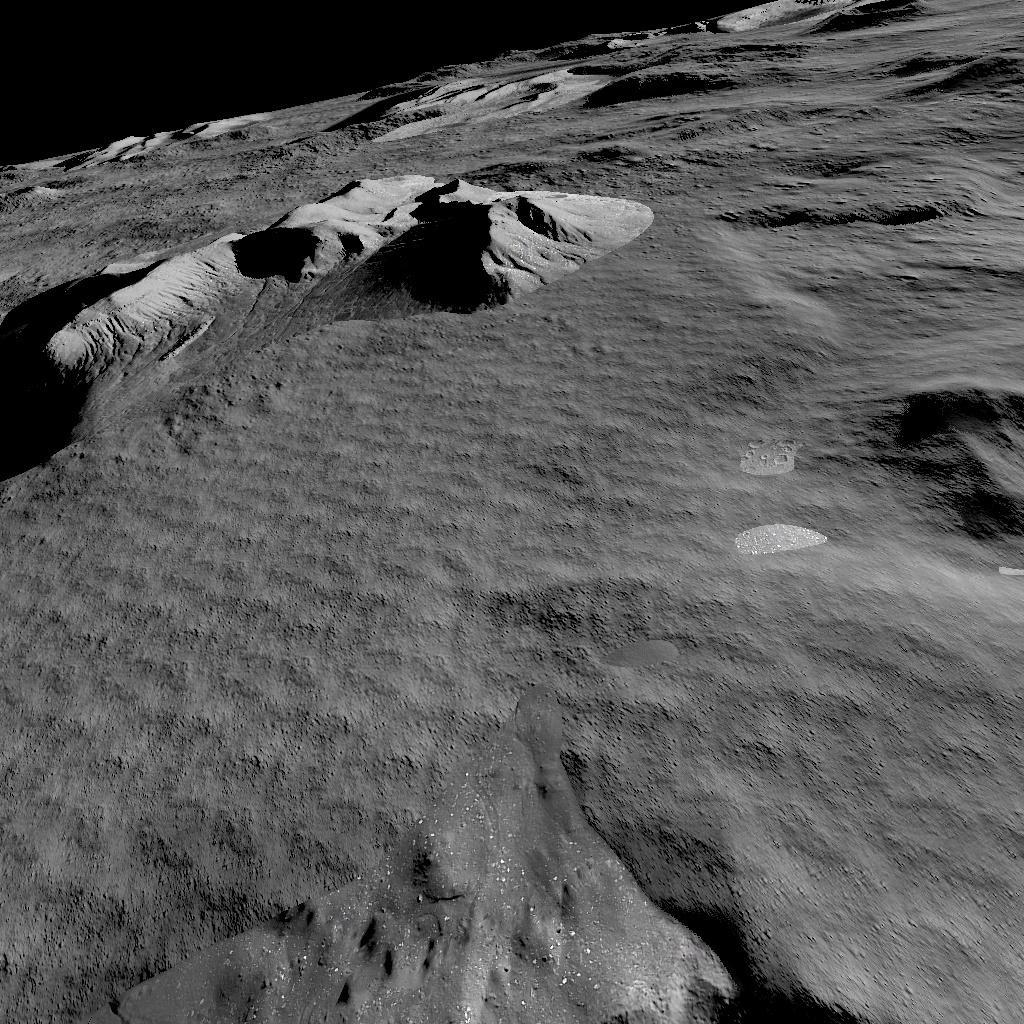Boulders: (0, 178, 650, 480), (341, 0, 925, 145)
Crater: (0, 835, 1024, 1024), (901, 370, 1024, 563), (36, 110, 290, 165), (706, 192, 975, 238)
Plan surface: (0, 495, 888, 823)
